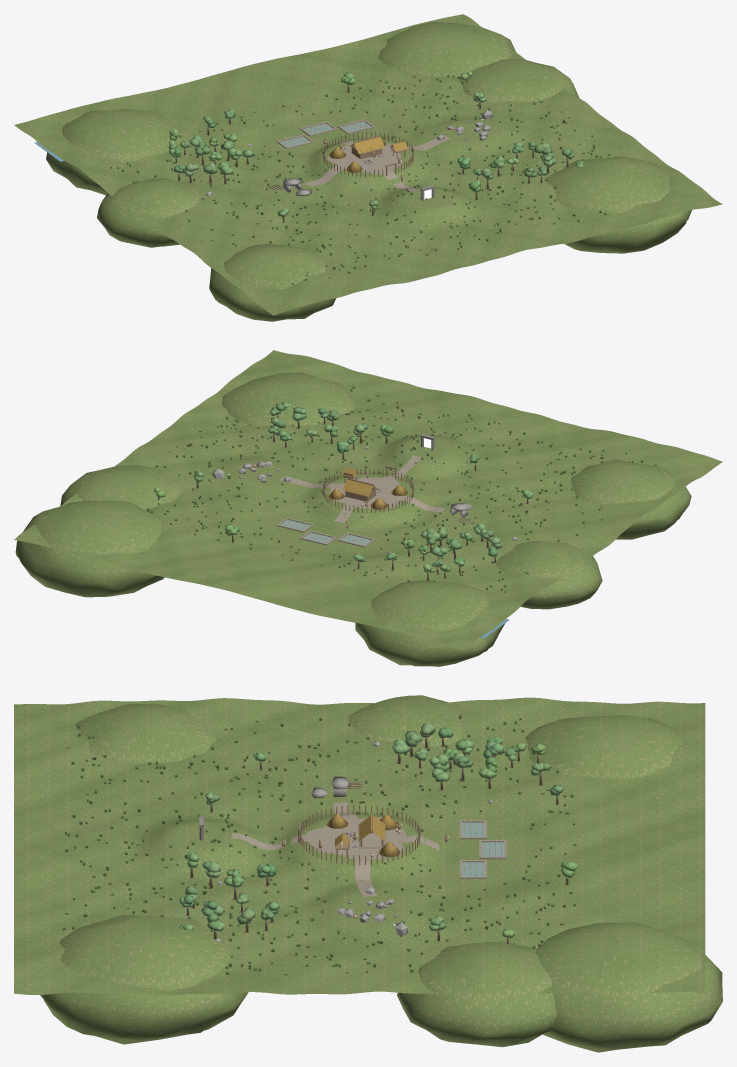
The model's file is bronze.glb.
3 renders of one model, top to bottom at view 1: azimuth 30°, elevation 25°; view 2: azimuth 150°, elevation 25°; view 3: azimuth 270°, elevation 25°, orthographic. The views are drawn at different scales.
Parts seen in each view (by area): view 1: ground, hill.001, hill.005, hill, hill.004, hill.002, hill.003, blades, village_floor; view 2: ground, hill.005, hill.004, hill, hill.001, hill.002, hill.003, blades, village_floor; view 3: ground, hill.005, hill.001, hill.003, hill.004, hill, blades, hill.002, village_floor, path.001.
Part boxes in pixels (left/top/right/bottom): ground: left=14, top=14, right=722, bottom=315; hill.001: left=545, top=156, right=691, bottom=253; hill.005: left=378, top=22, right=516, bottom=77; hill: left=209, top=243, right=335, bottom=321; hill.004: left=46, top=109, right=180, bottom=195; hill.002: left=97, top=177, right=198, bottom=247; hill.003: left=459, top=58, right=579, bottom=102; blades: left=110, top=75, right=610, bottom=284; village_floor: left=326, top=142, right=403, bottom=174; ground: left=14, top=350, right=722, bottom=650; hill.005: left=15, top=500, right=164, bottom=597; hill.004: left=355, top=580, right=505, bottom=666; hill: left=571, top=459, right=691, bottom=539; hill.001: left=222, top=372, right=354, bottom=426; hill.002: left=496, top=540, right=602, bottom=609; hill.003: left=60, top=465, right=183, bottom=510; blades: left=146, top=386, right=656, bottom=600; village_floor: left=329, top=477, right=399, bottom=508; ground: left=14, top=697, right=705, bottom=995; hill.005: left=535, top=922, right=722, bottom=1052; hill.001: left=40, top=914, right=248, bottom=1044; hill.003: left=397, top=942, right=556, bottom=1047; hill.004: left=525, top=715, right=682, bottom=778; hill: left=75, top=703, right=215, bottom=764; blades: left=62, top=715, right=576, bottom=975; hill.002: left=348, top=695, right=464, bottom=745; village_floor: left=306, top=817, right=406, bottom=860; path.001: left=354, top=851, right=377, bottom=896.
Size of the model in its own units: 155 by 22.4 by 144.
26 materials, 9 textured.
